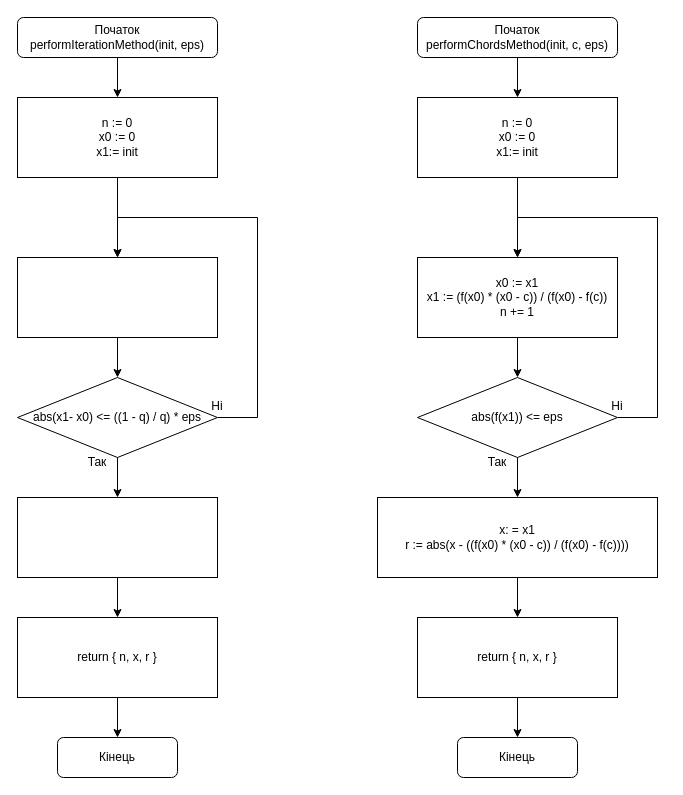
Some shapes in this 683 by 795 pixel diagram are drawn without their labels. The shapes that lost their labels are listed below. From the top down, each one's centre as x and y in pixels, then its label:
(117,297): x0 := x1 x1 := x0 - lambda * f(x0) n += 1
(117,537): x: = x1 r := abs(x - ( x - lambda * f(x) ))
